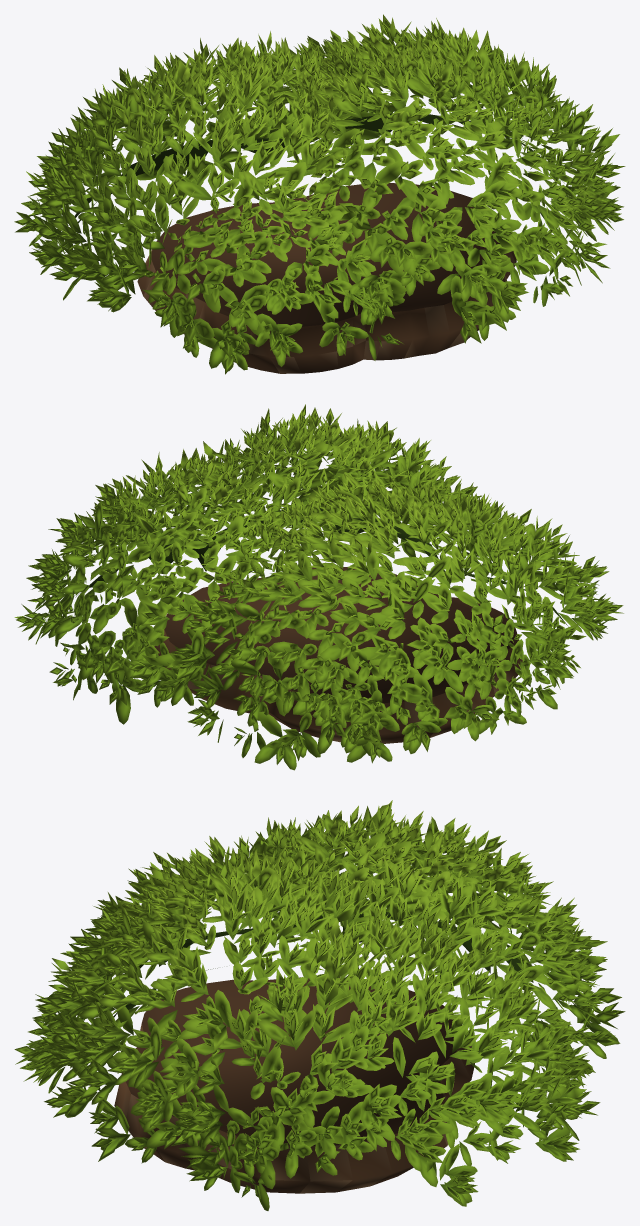
The model's file is moss-tuft-2.glb.
3 renders of one model, top to bottom at view 1: azimuth 30°, elevation 25°; view 2: azimuth 150°, elevation 25°; view 3: azimuth 270°, elevation 25°, orthographic. The views are drawn at different scales.
Visible parts, largest first — view 1: lod0; view 2: lod0; view 3: lod0.
Part boxes in pixels (<box>): lod0: <box>14,14,625,374</box>; lod0: <box>14,404,623,770</box>; lod0: <box>14,800,625,1210</box>.
Size of what is drawn, in the model's own units: 1 by 0.4505 by 0.9059.
